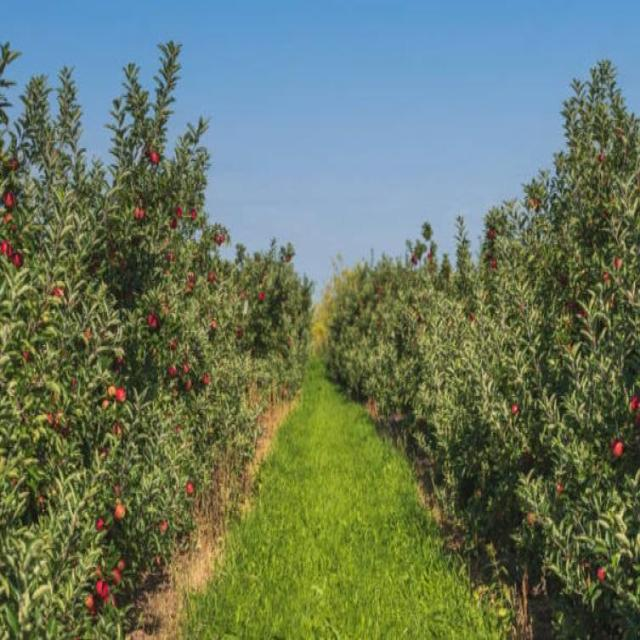row: (161, 359, 533, 640)
